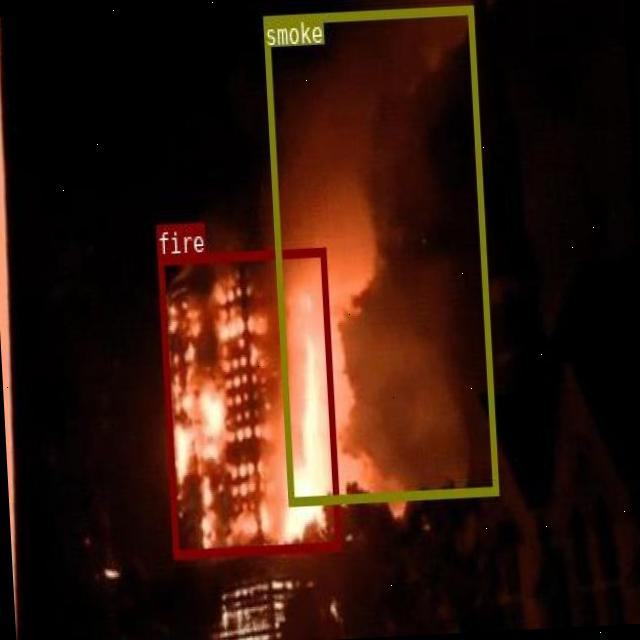fire: (157, 247, 340, 557)
smoke: (262, 6, 498, 505)
